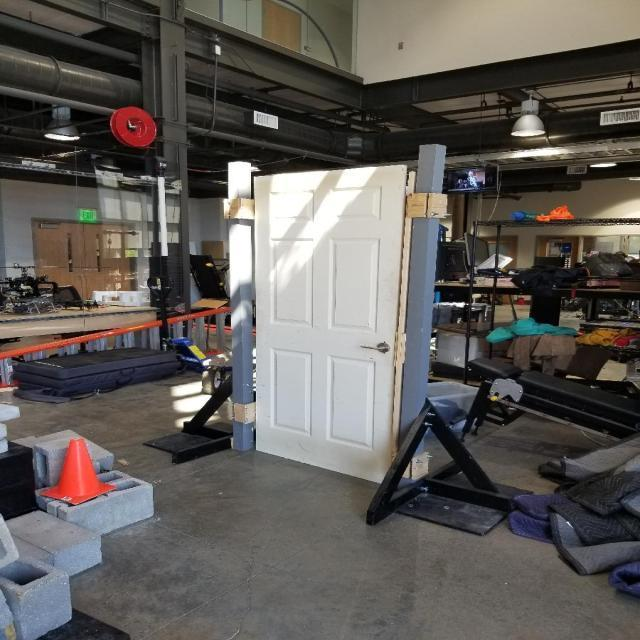door: (252, 164, 410, 496), (354, 334, 394, 358)
